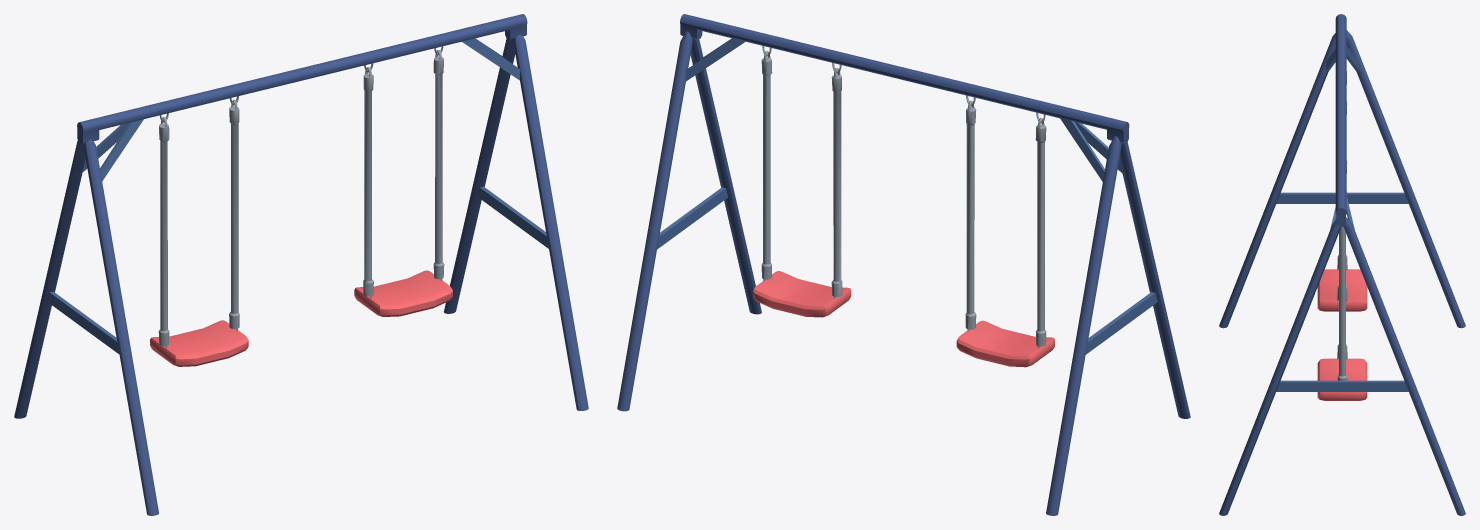
Rendered from swing.fbx.
3 renders of one model, left to right at view 1: azimuth 30°, elevation 25°; view 2: azimuth 150°, elevation 25°; view 3: azimuth 270°, elevation 25°, orthographic. The views are drawn at different scales.
Parts seen in each view (by area): view 1: swing; view 2: swing; view 3: swing.
Part boxes in pixels (x1,y1,x2,y2): swing: (14,14,588,515); swing: (617,14,1190,515); swing: (1219,14,1465,515).
Size of the model in its own units: 39.02 by 28.93 by 20.98.
